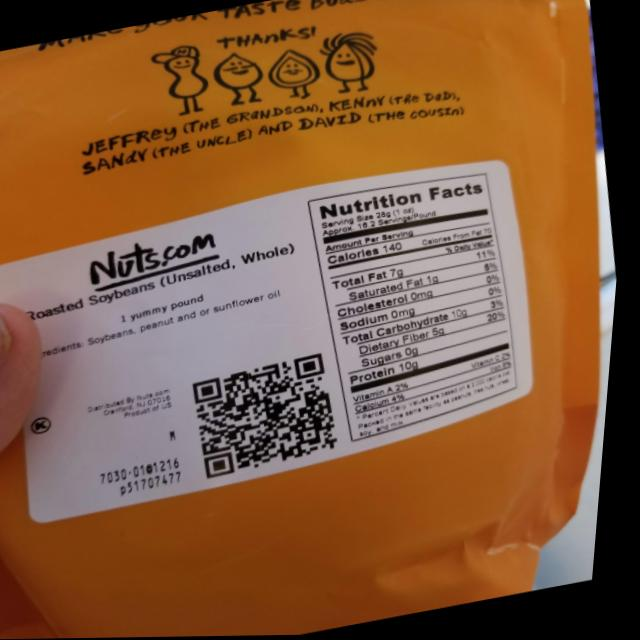QR_CODE: (175, 339, 365, 488)
